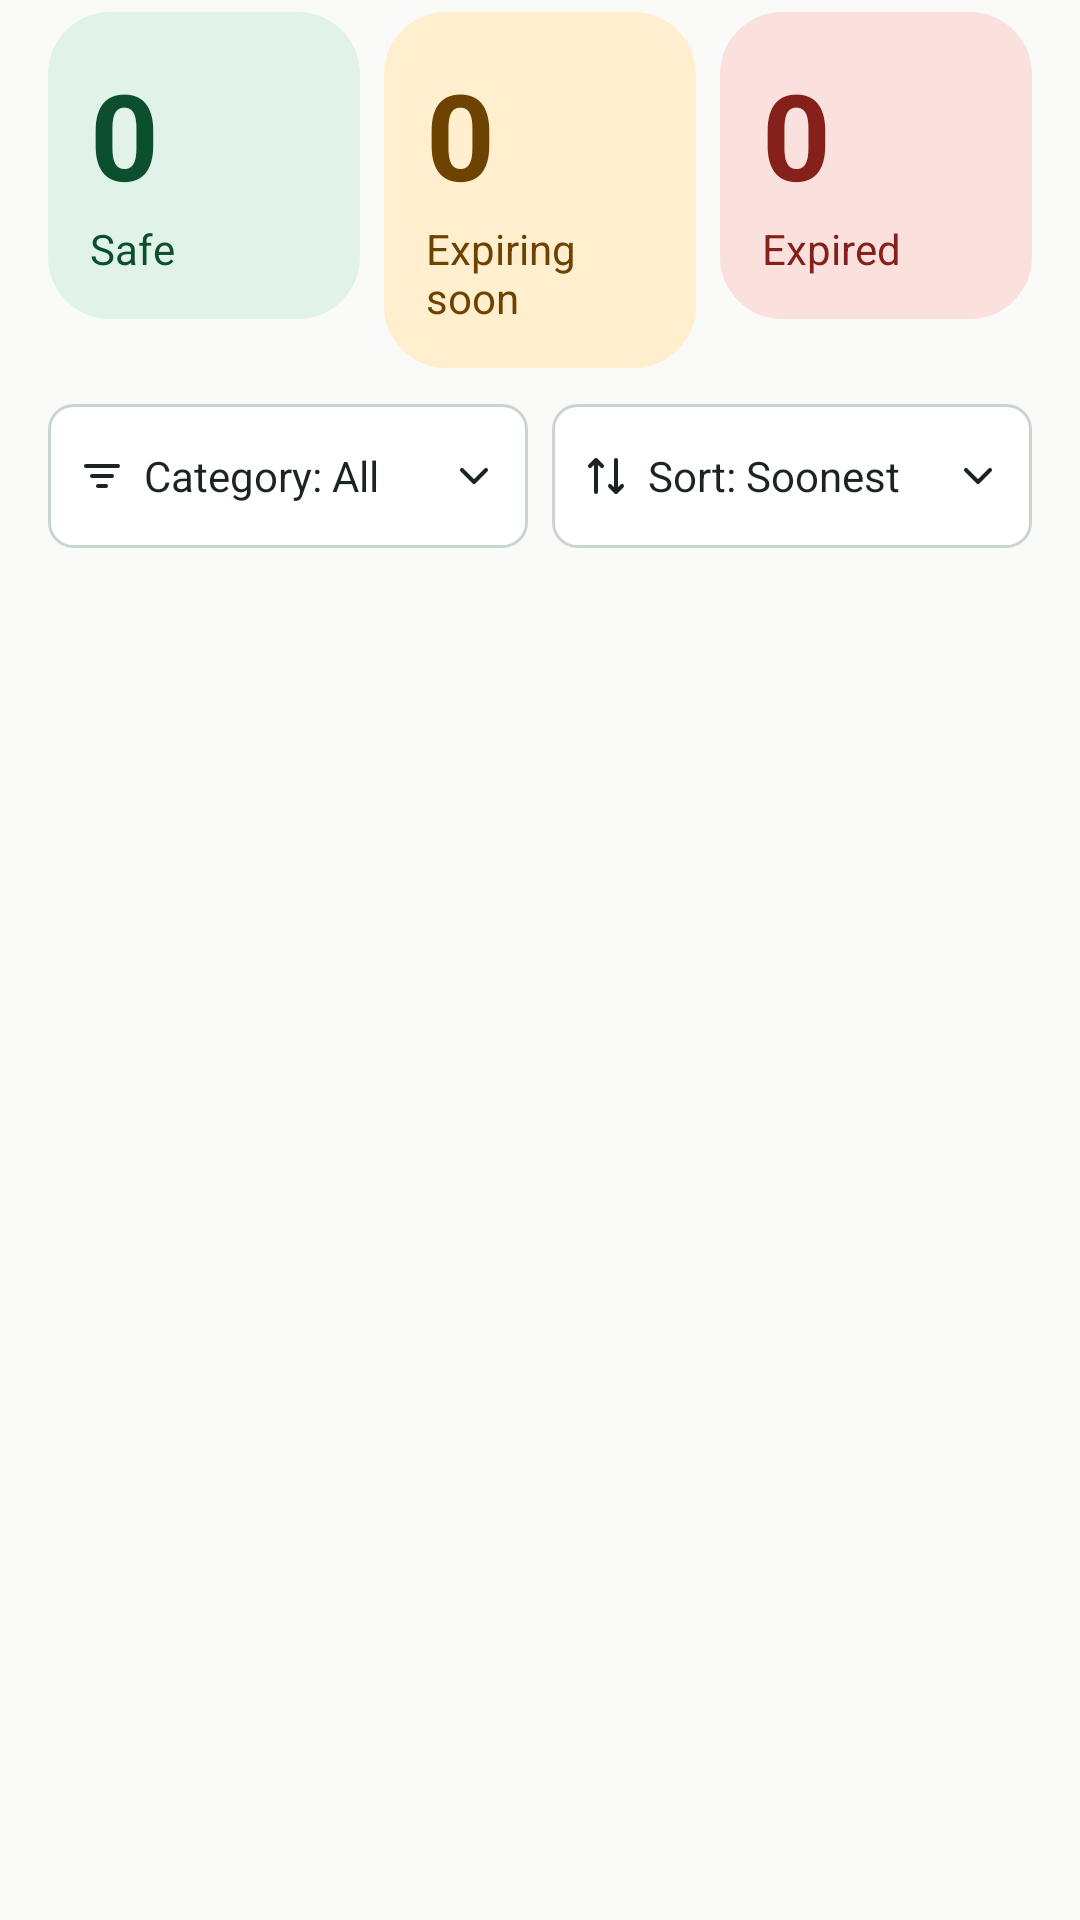

Named icons in this screenshot (1080px x 1920px) and their bounding boxes, (x1=x1, y1=y1, x2=x2, y2=y2):
arrow down: (x1=460, y1=468, x2=488, y2=484), (x1=964, y1=468, x2=992, y2=484)
filter: (x1=84, y1=464, x2=120, y2=488)
